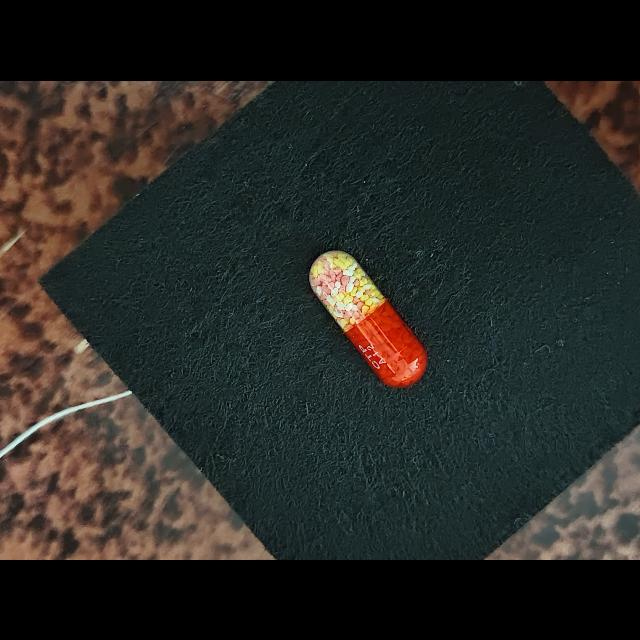Intact Capsule: (309, 250, 427, 387)
